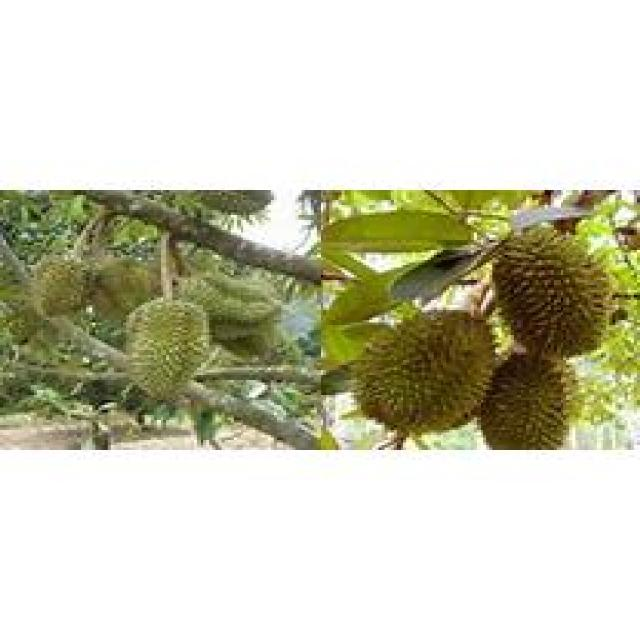fruit: (342, 292, 508, 442), (480, 212, 625, 372), (464, 338, 588, 452), (117, 288, 221, 410)
